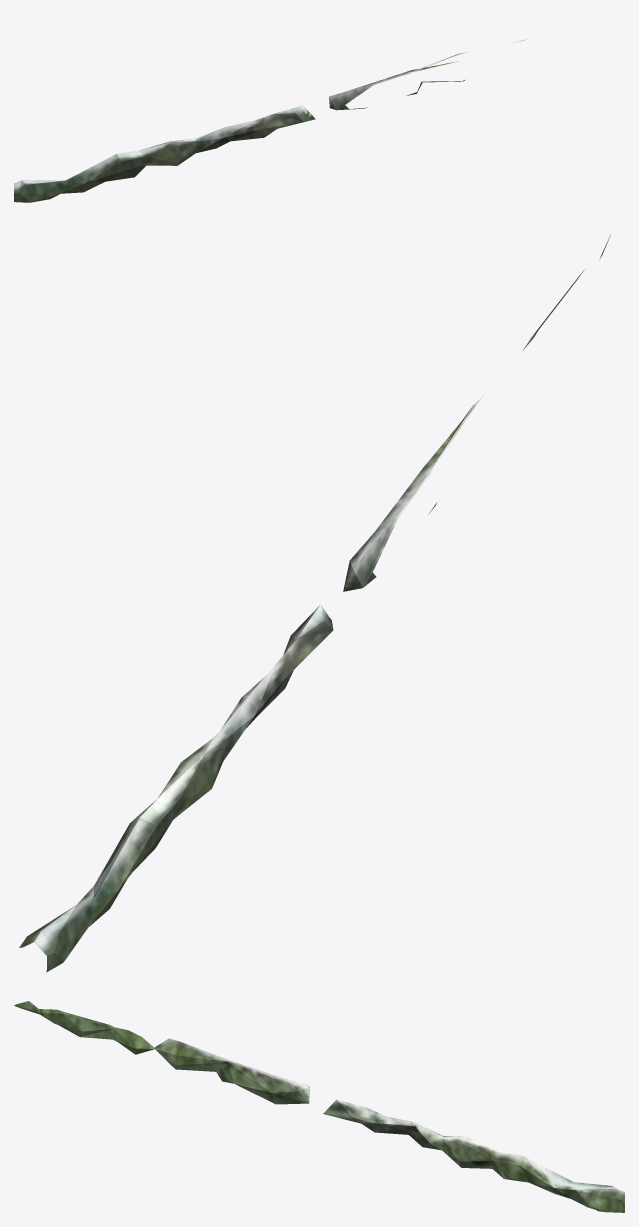
3 renders of one model, top to bottom at view 1: azimuth 90°, elevation 25°; view 2: azimuth 150°, elevation 25°; view 3: azimuth 270°, elevation 25°, orthographic. The views are drawn at different scales.
Bounding box in the file's own units: 0.3644 × 2.03 × 5.75.
1 material, 1 textured.
